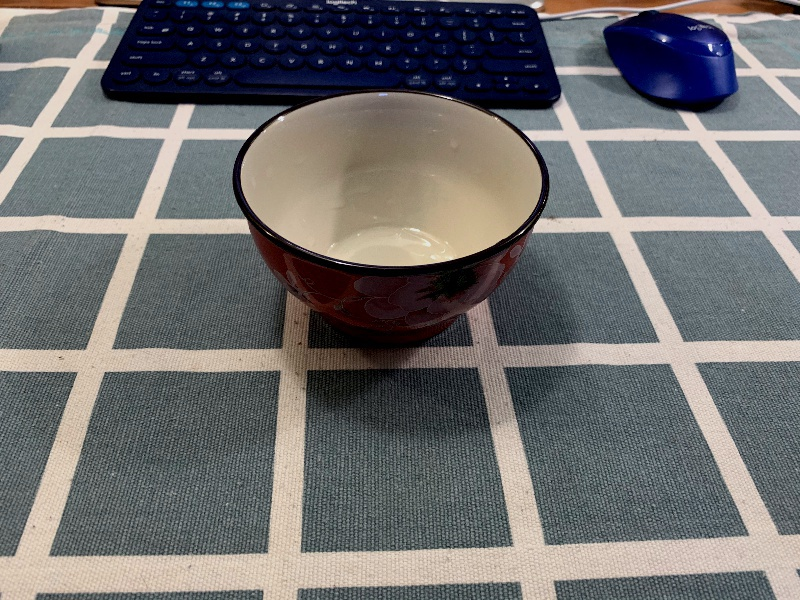bowl_small: (228, 83, 559, 355)
